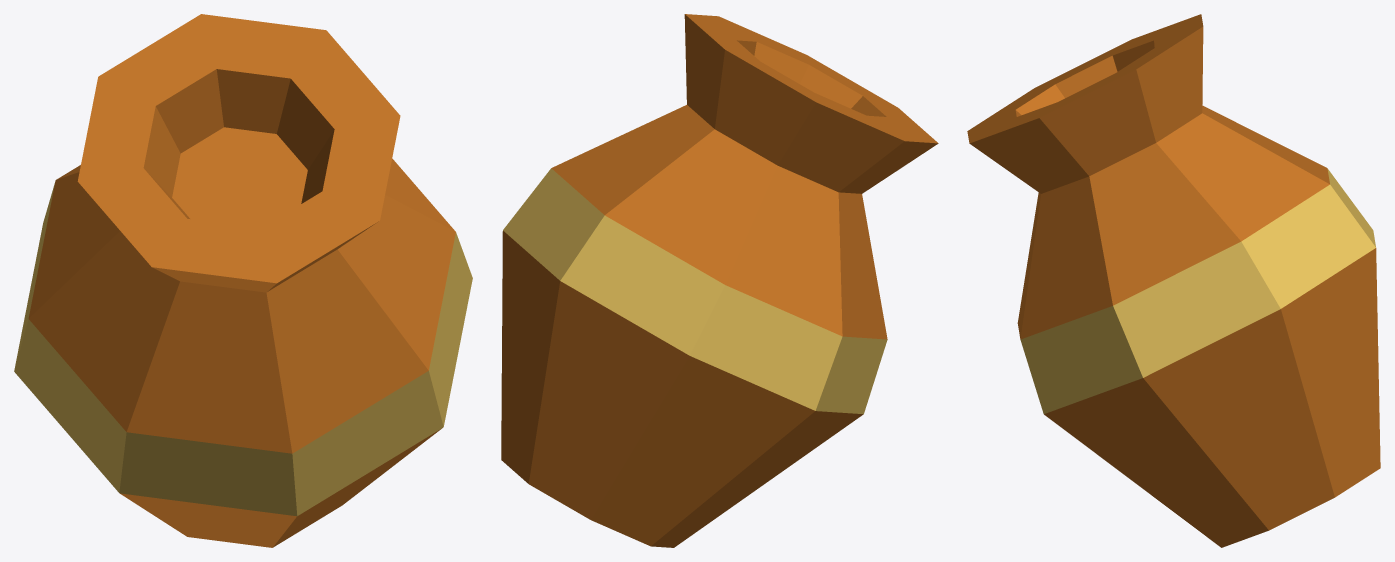
Rendered from Jarroncolor.fbx.
The picture shows the model from 3 angles, left to right: view 1: azimuth 30°, elevation 25°; view 2: azimuth 150°, elevation 25°; view 3: azimuth 270°, elevation 25°; orthographic projection. The views are drawn at different scales.
Parts seen in each view (by area): view 1: Jarroncolor; view 2: Jarroncolor; view 3: Jarroncolor.
Boxes of the visible parts, x1,y1,x2,y2 form: Jarroncolor: (14,14,472,547); Jarroncolor: (501,14,938,547); Jarroncolor: (967,14,1380,547).
Size of the model in its own units: 12.86 by 13.39 by 17.14.
